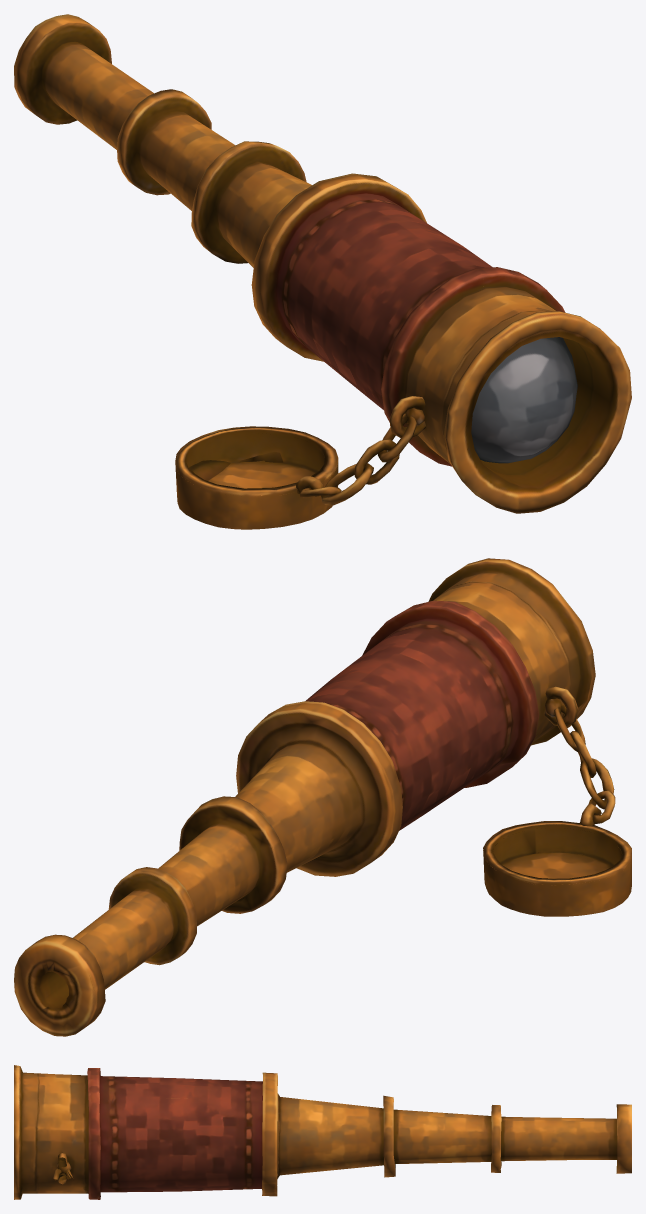
The model's file is spyglass_parts.glb.
The picture shows the model from 3 angles, top to bottom: view 1: azimuth 30°, elevation 25°; view 2: azimuth 150°, elevation 25°; view 3: azimuth 270°, elevation 25°; orthographic projection. The views are drawn at different scales.
Parts seen in each view (by area): view 1: Body, Cap, CapChain; view 2: Body, Cap, CapChain; view 3: Body.
Part boxes in pixels (box(x1,y1,x2,y2)): Body: box(14, 14, 631, 513); Cap: box(175, 426, 338, 529); CapChain: box(299, 409, 398, 505); Body: box(14, 558, 595, 1036); Cap: box(483, 809, 631, 916); CapChain: box(567, 699, 615, 823); Body: box(14, 1065, 631, 1199).
Bounding box in the file's own units: 0.4114 × 0.2571 × 1.
Materials: 1 (1 with a texture image).
